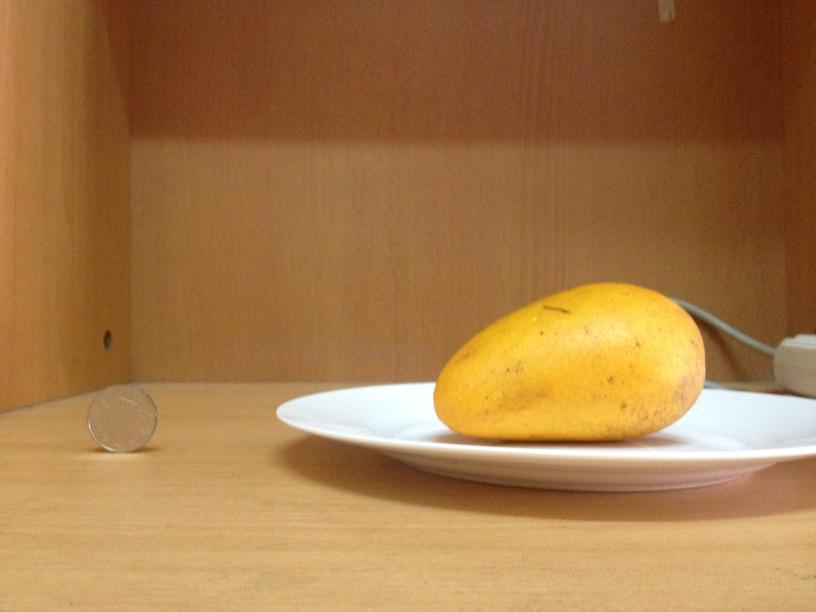coin: (87, 382, 156, 451)
mango: (433, 277, 705, 444)
